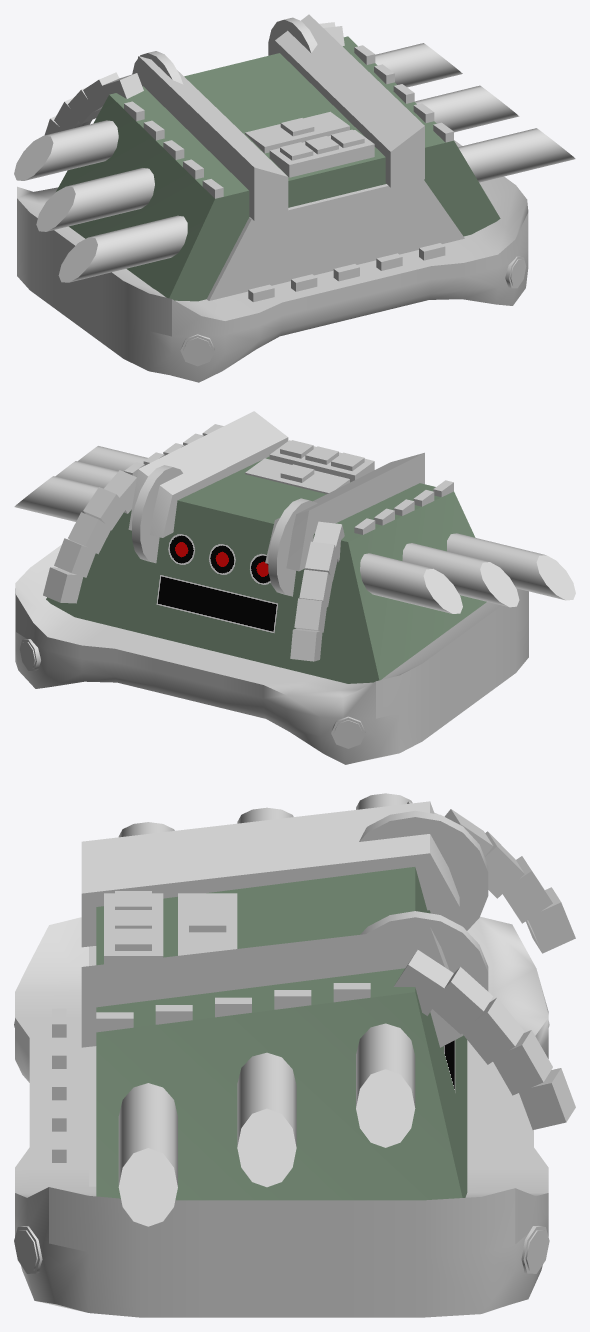
Rendered from akuxa_hat.fbx.
The picture shows the model from 3 angles, top to bottom: view 1: azimuth 30°, elevation 25°; view 2: azimuth 150°, elevation 25°; view 3: azimuth 270°, elevation 25°; orthographic projection. The views are drawn at different scales.
Parts seen in each view (by area): view 1: hat004, Box042, Cylinder021, Box045, Box043, Box064, hat_red1, hat_jade1, hat_red2, Box061, Box052, hat_jade2 (+2 smaller); view 2: Box042, hat004, Cylinder021, Box045, hat_red1, hat_red2, Box064, Box061, hat_jade2, Box052, Cylinder032, hat_edges; view 3: hat004, Box042, Box045, Cylinder021, hat_red1, hat_red2, Box064, Box052, hat_jade1, hat_jade2, Box043, hat_red3 (+3 smaller).
Part boxes in pixels (bbox=[...]): hat004: bbox=[17, 140, 528, 382]; Box042: bbox=[56, 36, 500, 301]; Cylinder021: bbox=[14, 43, 575, 282]; Box045: bbox=[134, 14, 424, 220]; Box043: bbox=[207, 179, 464, 300]; Box064: bbox=[245, 111, 374, 177]; hat_red1: bbox=[44, 22, 344, 135]; hat_jade1: bbox=[248, 243, 445, 302]; hat_red2: bbox=[132, 17, 317, 84]; Box061: bbox=[124, 101, 223, 198]; Box052: bbox=[354, 45, 453, 142]; hat_jade2: bbox=[280, 129, 364, 160]; Box042: bbox=[46, 456, 486, 683]; hat004: bbox=[15, 539, 528, 764]; Cylinder021: bbox=[14, 446, 575, 613]; Box045: bbox=[128, 411, 424, 571]; hat_red1: bbox=[43, 470, 344, 661]; hat_red2: bbox=[132, 465, 317, 596]; Box064: bbox=[245, 440, 374, 493]; Box061: bbox=[354, 480, 453, 534]; hat_jade2: bbox=[280, 440, 364, 470]; Box052: bbox=[124, 424, 223, 476]; Cylinder032: bbox=[333, 720, 362, 746]; hat_edges: bbox=[19, 639, 365, 748]; hat004: bbox=[15, 916, 548, 1317]; Box042: bbox=[96, 867, 467, 1200]; Box045: bbox=[81, 801, 459, 1047]; Cylinder021: bbox=[118, 793, 415, 1226]; hat_red1: bbox=[394, 801, 575, 1129]; hat_red2: bbox=[359, 810, 488, 1047]; Box064: bbox=[104, 893, 237, 964]; Box052: bbox=[96, 983, 370, 1032]; hat_jade1: bbox=[52, 1008, 66, 1162]; hat_jade2: bbox=[115, 891, 151, 950]; Box043: bbox=[89, 946, 96, 1186]; hat_red3: bbox=[189, 910, 226, 932].
Bounding box in the file's own units: 15.24 × 6.07 × 9.63.
